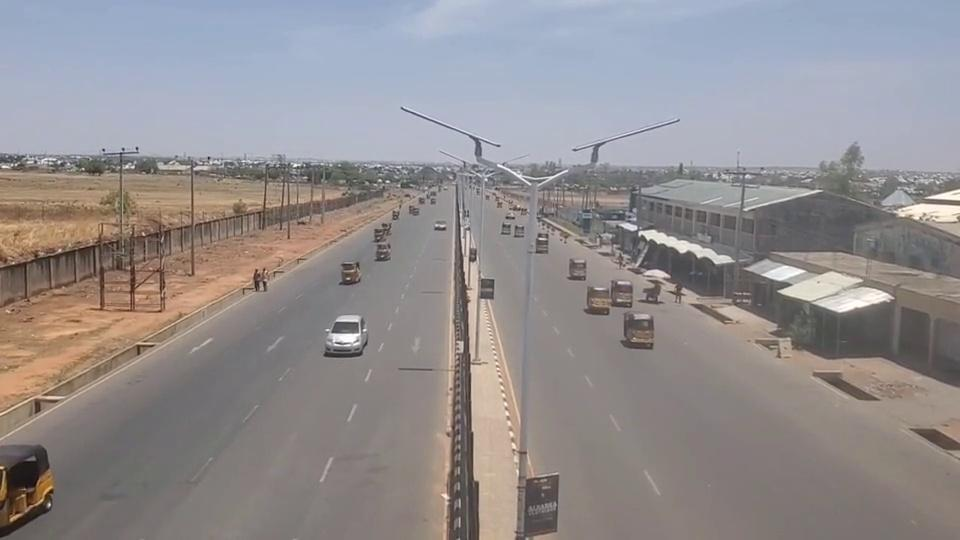keke: (0, 442, 54, 532), (622, 311, 654, 347), (586, 285, 610, 313), (610, 279, 633, 306), (339, 261, 361, 283), (568, 257, 586, 279)
